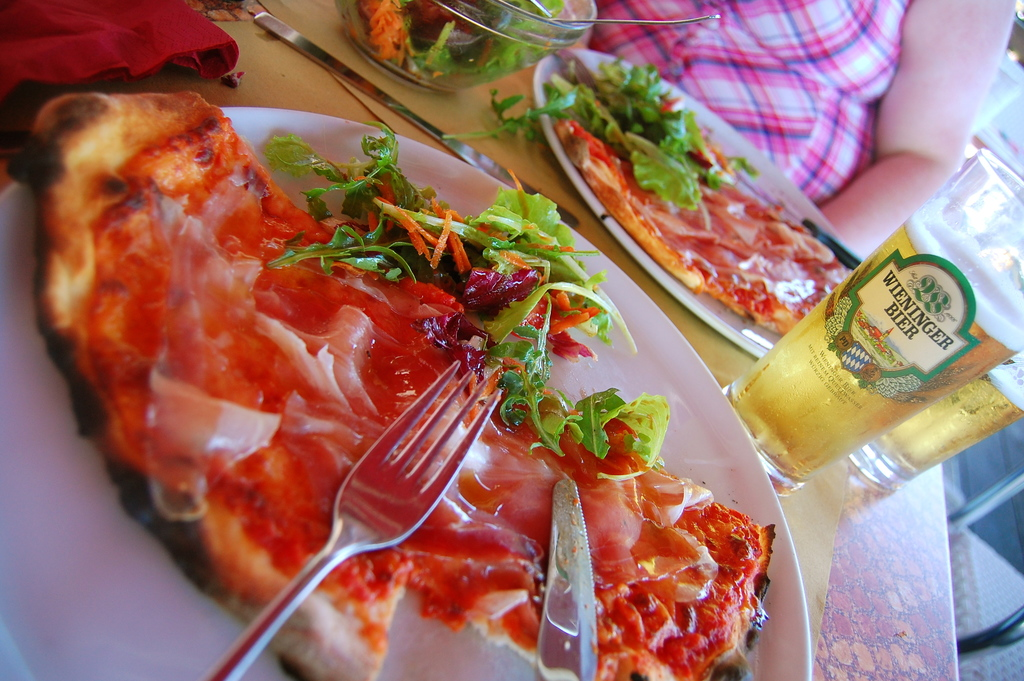Pizza: (14, 89, 556, 680), (563, 122, 850, 335)
